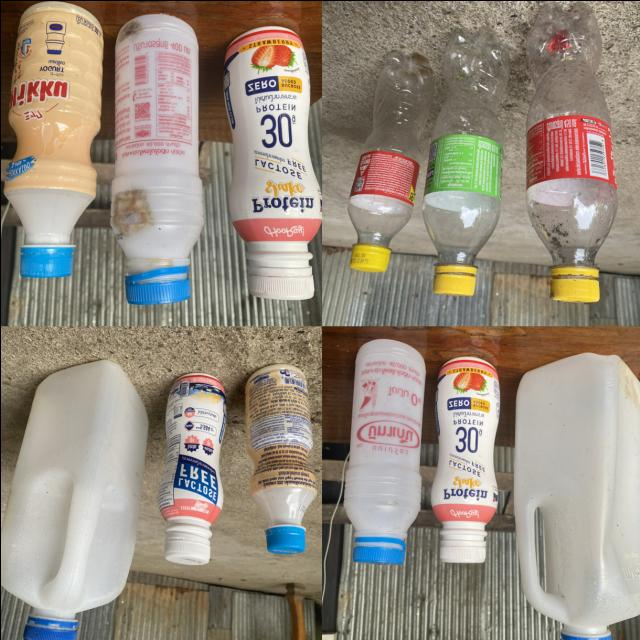plastik: (0, 360, 147, 640), (514, 353, 640, 640), (4, 0, 102, 277), (110, 13, 203, 304), (526, 2, 616, 302), (223, 26, 321, 299), (422, 26, 509, 295), (347, 51, 434, 271), (343, 338, 425, 564), (430, 355, 499, 561), (245, 363, 316, 553), (157, 372, 225, 564)
